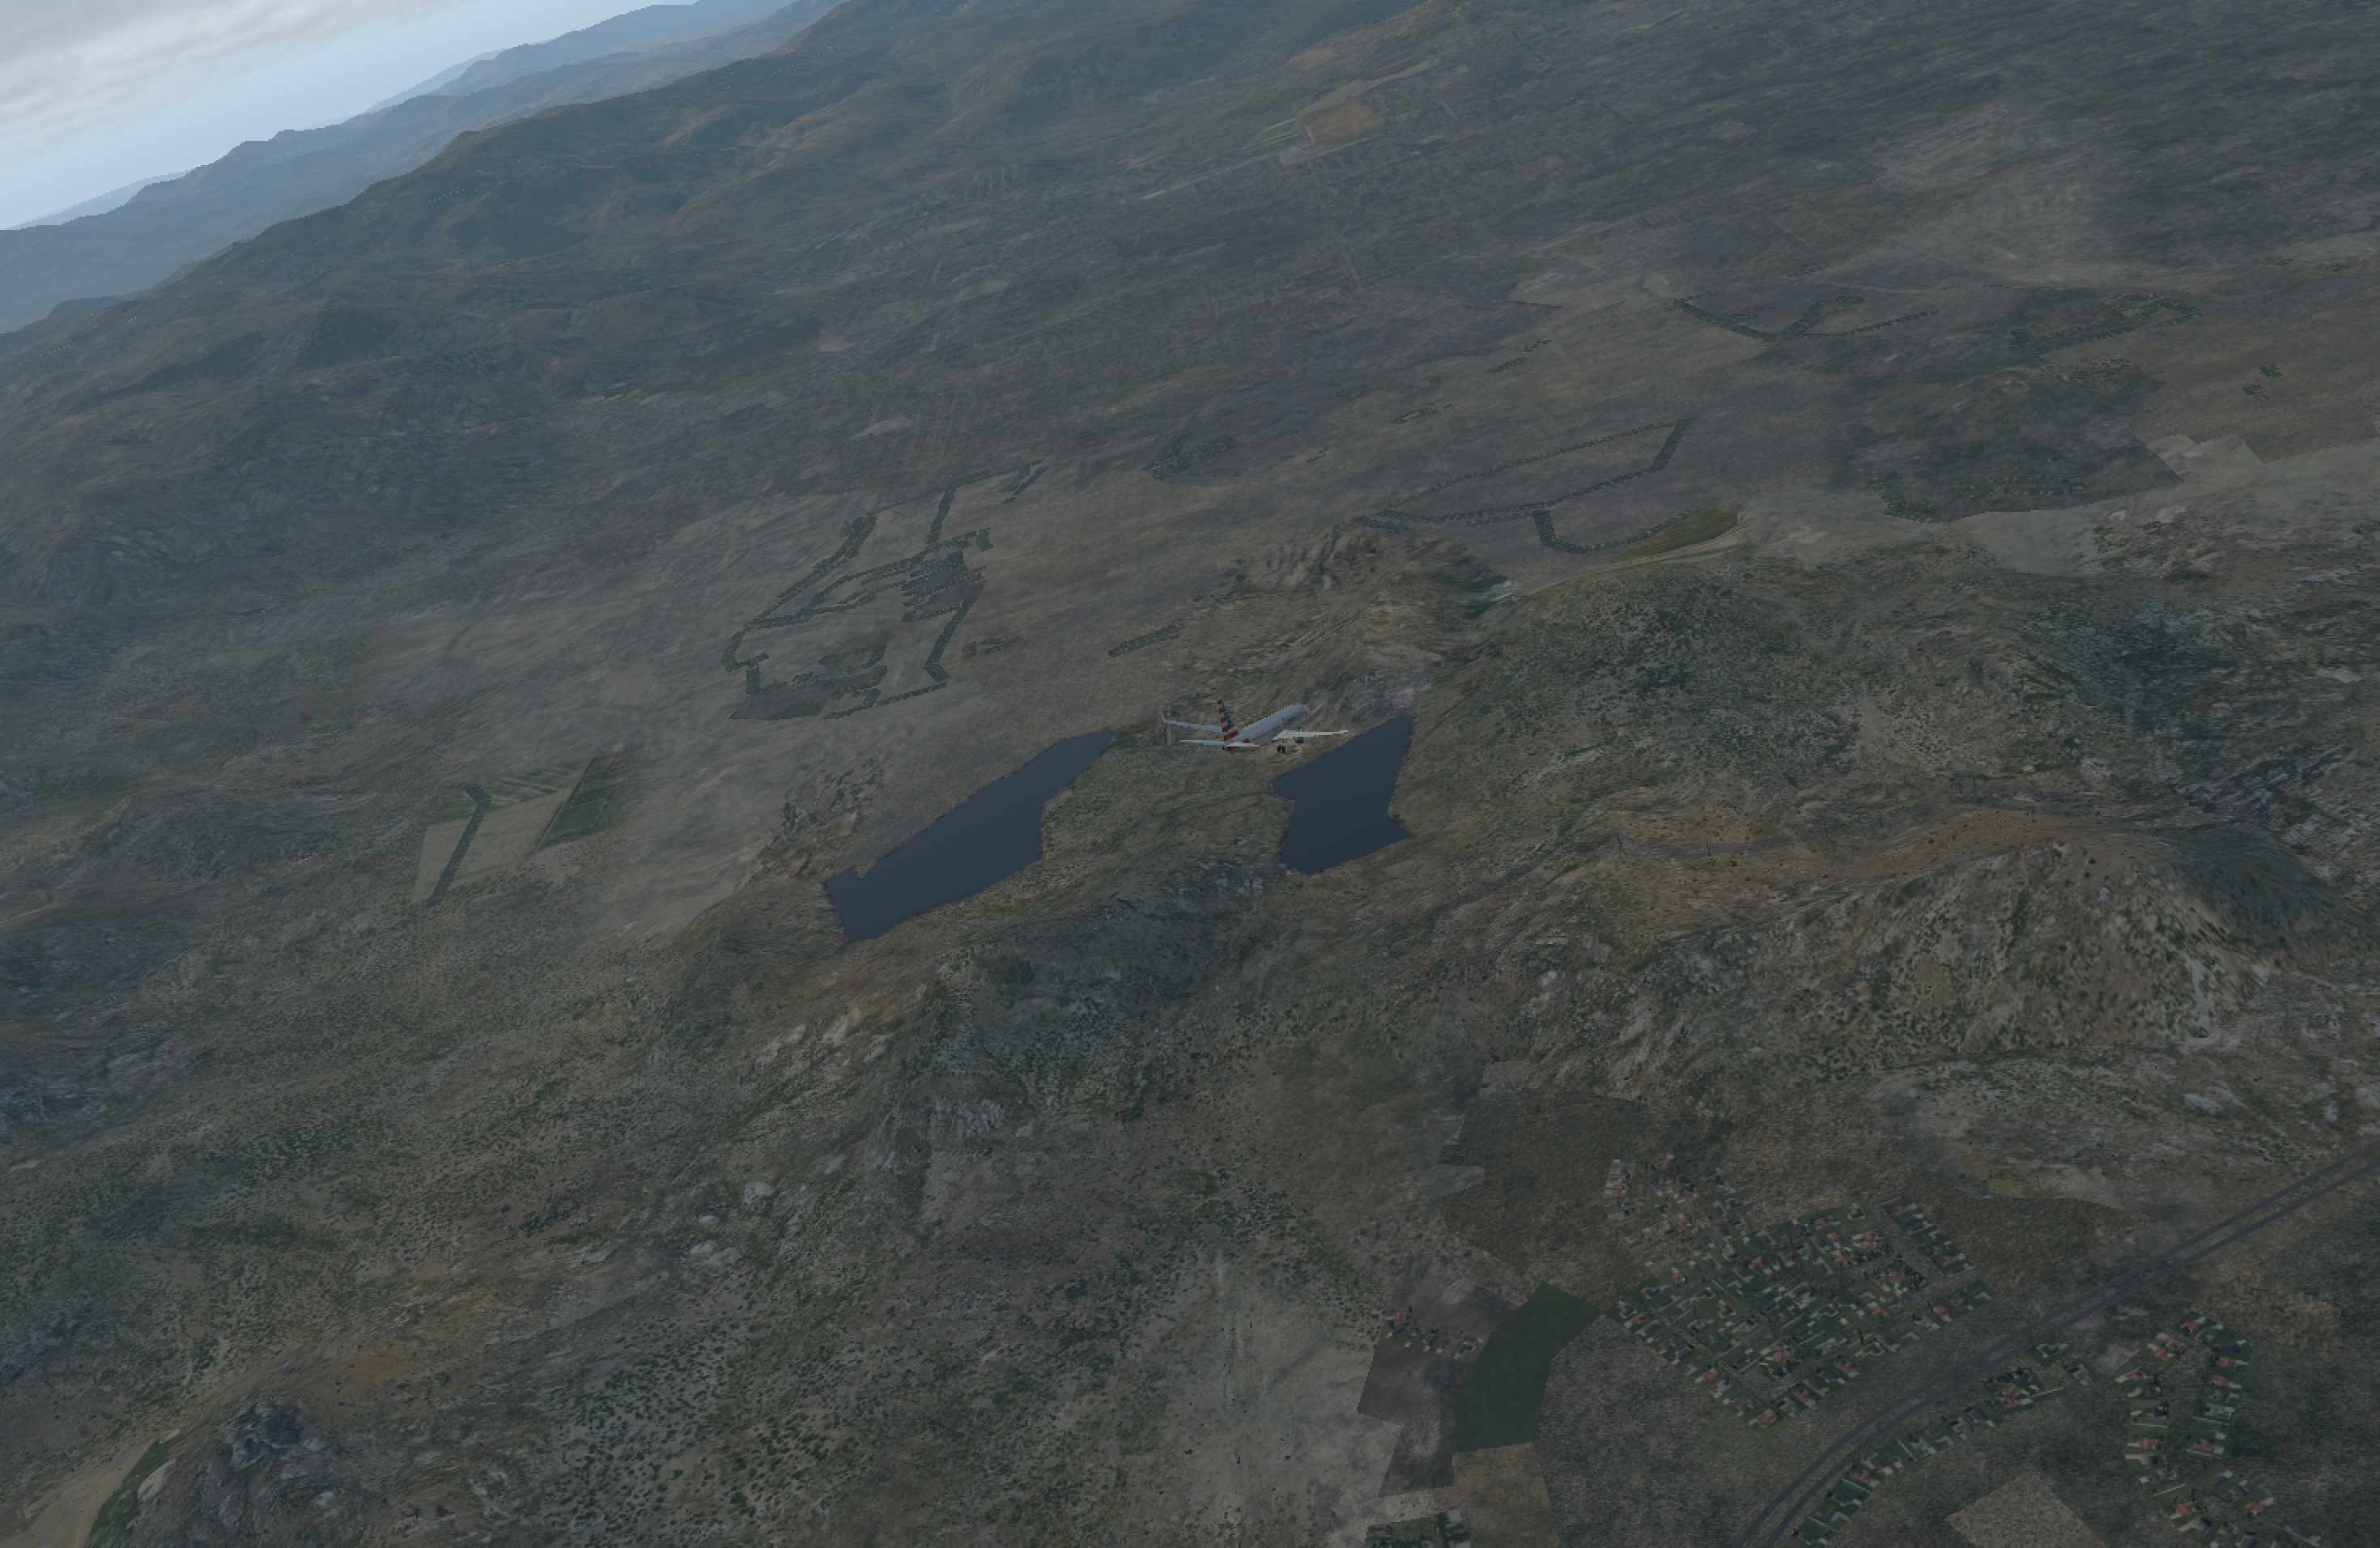aircraft: (1155, 689, 1384, 776)
